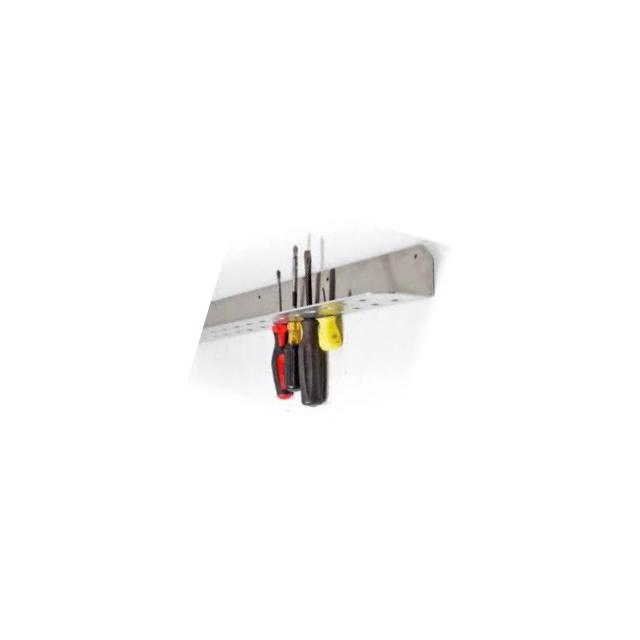screwdriver: (261, 244, 366, 410), (252, 243, 341, 393), (240, 267, 326, 403), (304, 262, 362, 354)
